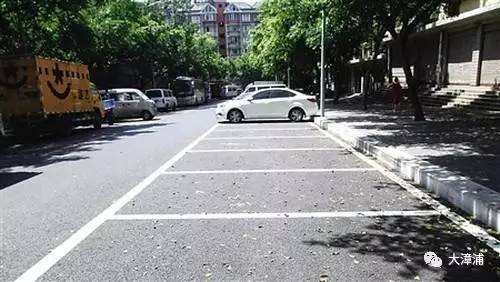slot_nocar: (10, 199, 500, 282), (111, 160, 460, 239), (145, 143, 389, 182), (176, 132, 360, 155), (204, 124, 333, 140)
